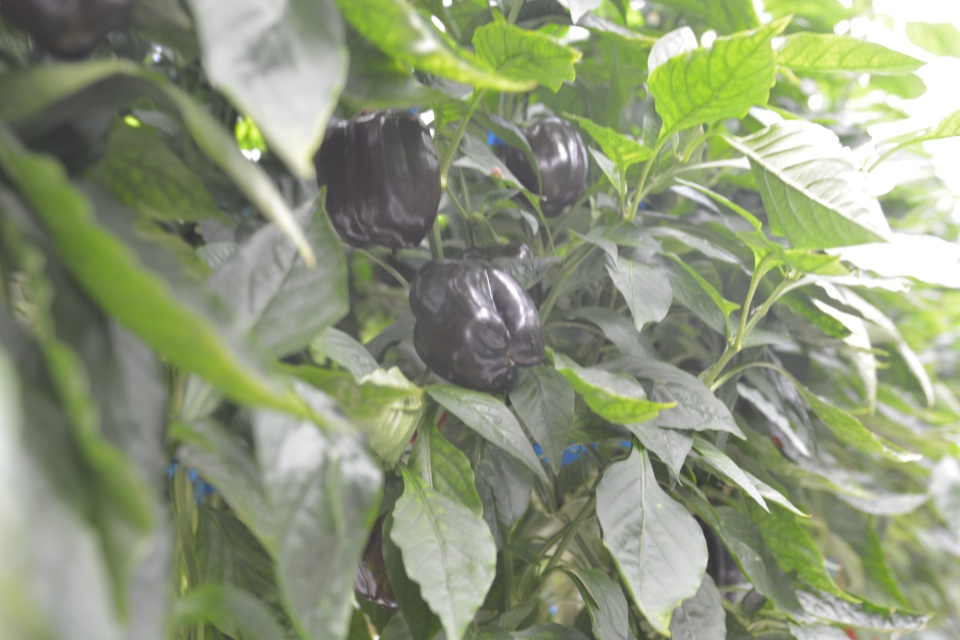fruit: (407, 257, 547, 395), (313, 110, 445, 252), (496, 114, 589, 216), (459, 236, 544, 317)
pedicle: (477, 236, 509, 246)
